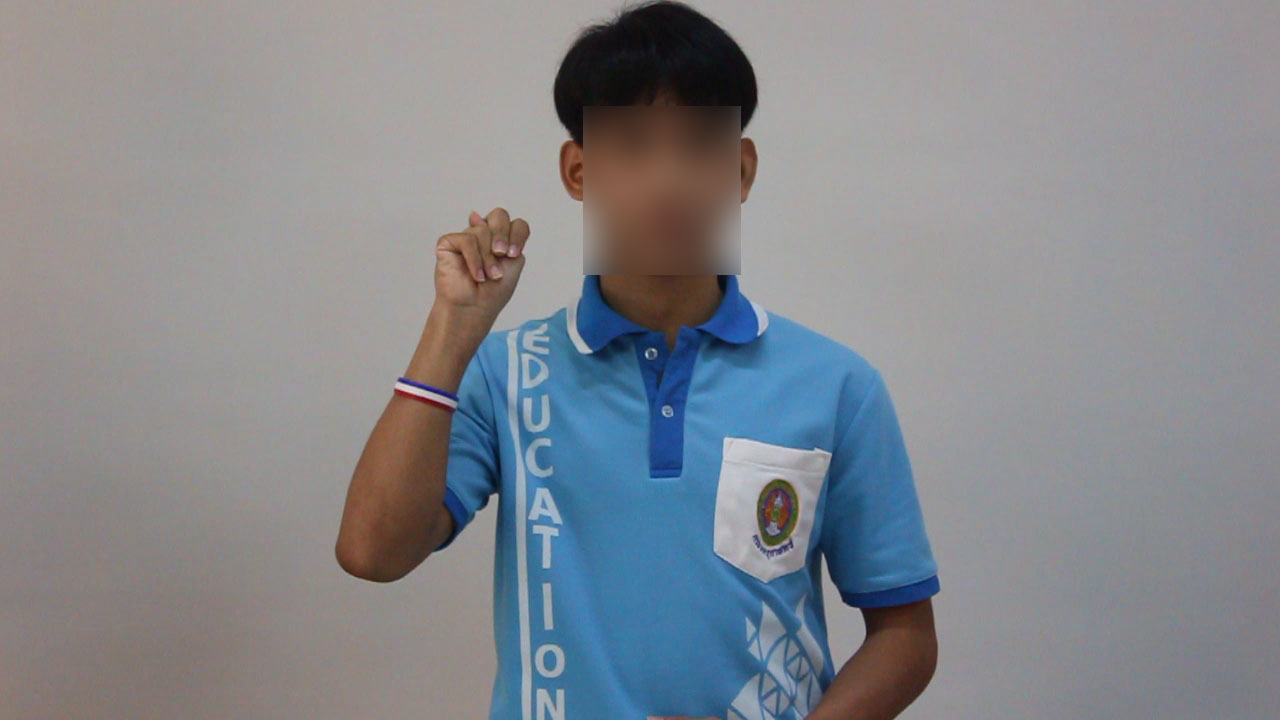nor: (421, 203, 542, 318)
